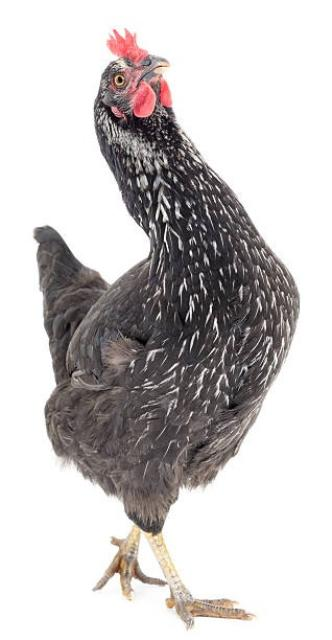Chicken: (30, 25, 302, 629)
